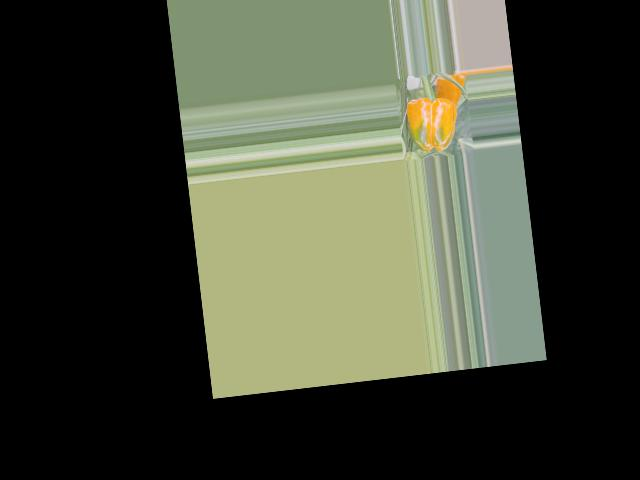bell_pepper: (398, 87, 464, 159)
